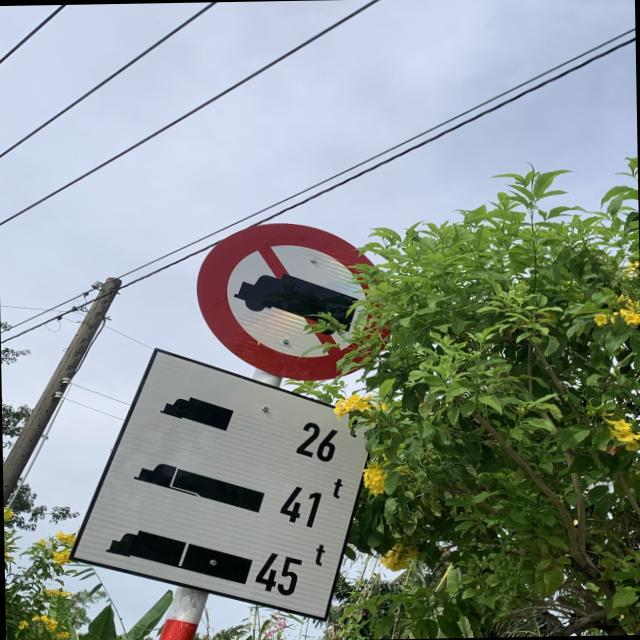Cam_Xe_Tai: (192, 219, 396, 383)
